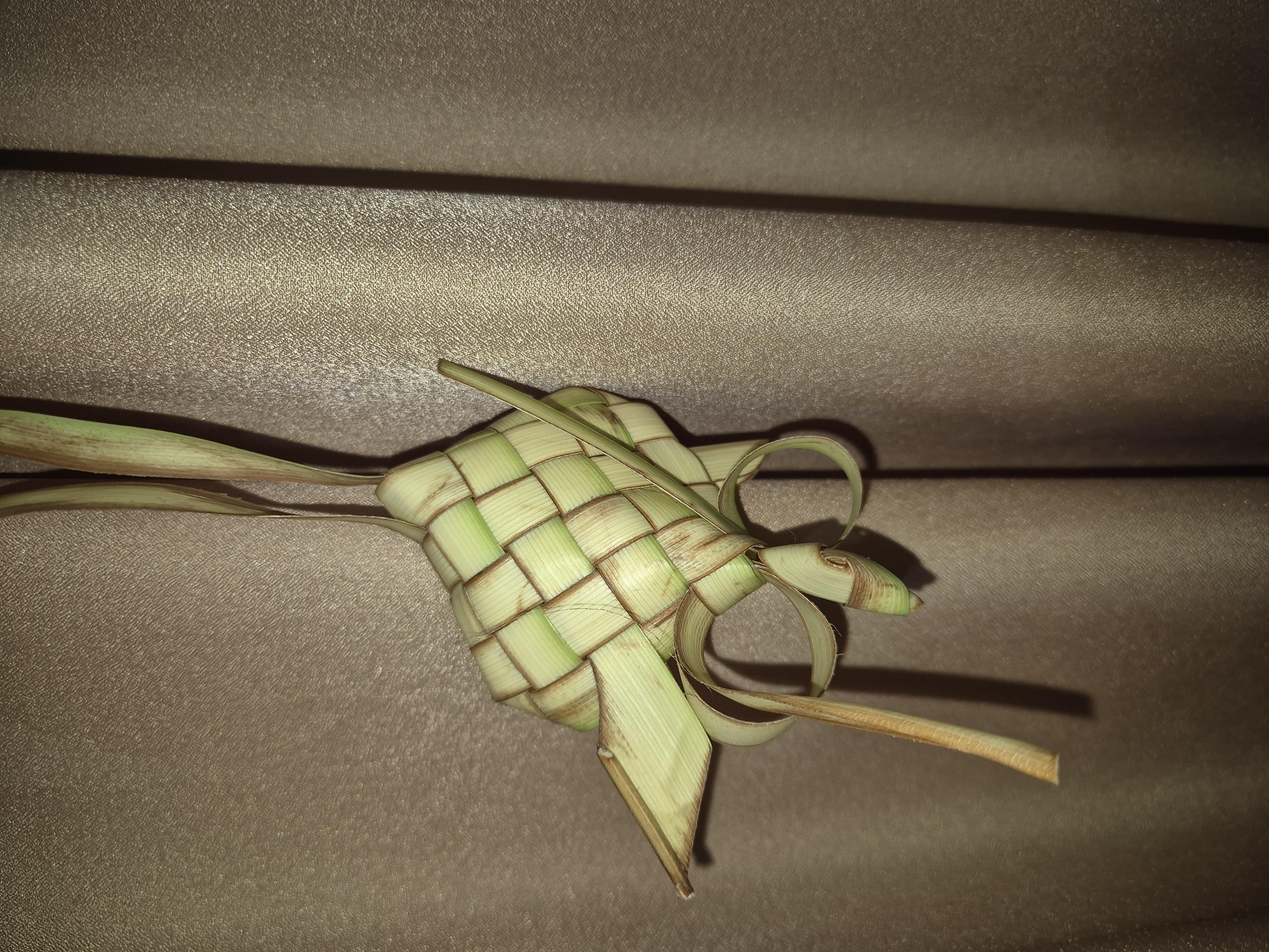Tipat Dampulan: (73, 283, 787, 793)
